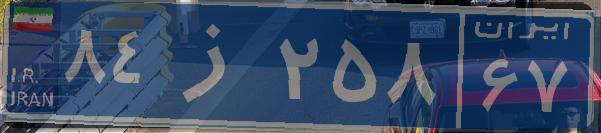2: (273, 28, 330, 110)
4: (110, 28, 158, 105)
5: (330, 28, 385, 110)
6: (475, 38, 525, 113)
7: (525, 38, 570, 115)
8: (385, 28, 445, 110), (57, 26, 110, 107)
ز: (158, 15, 273, 115)
